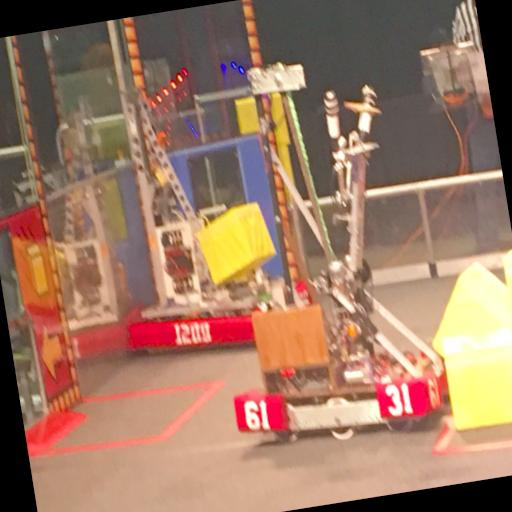robot: (186, 76, 457, 460), (96, 63, 318, 363)
